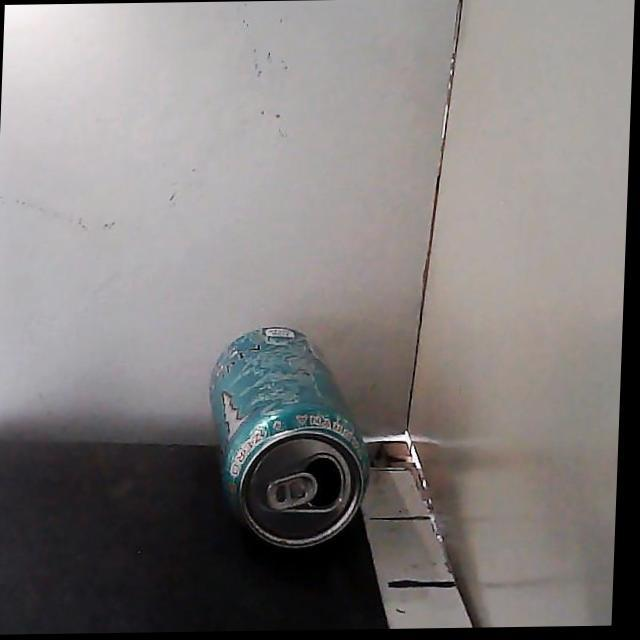metal: (210, 327, 367, 547)
